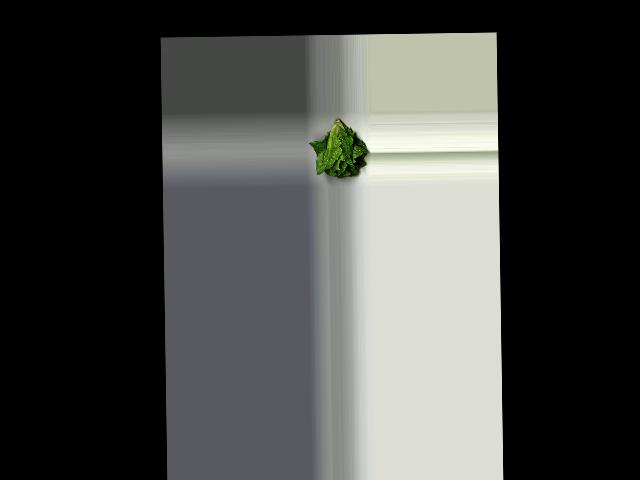lettuce: (315, 115, 367, 181)
